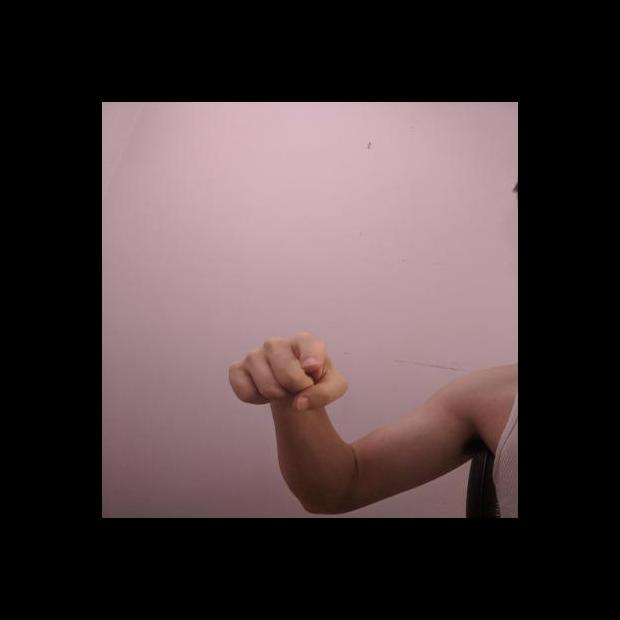Y: (224, 330, 352, 415)
